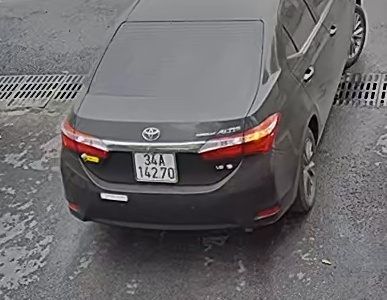vehicle plate: (129, 147, 181, 186)
